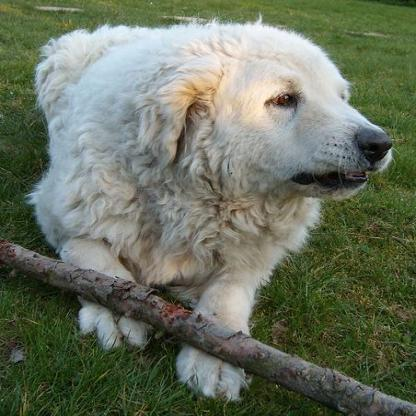kuvasz: (28, 18, 395, 403)
